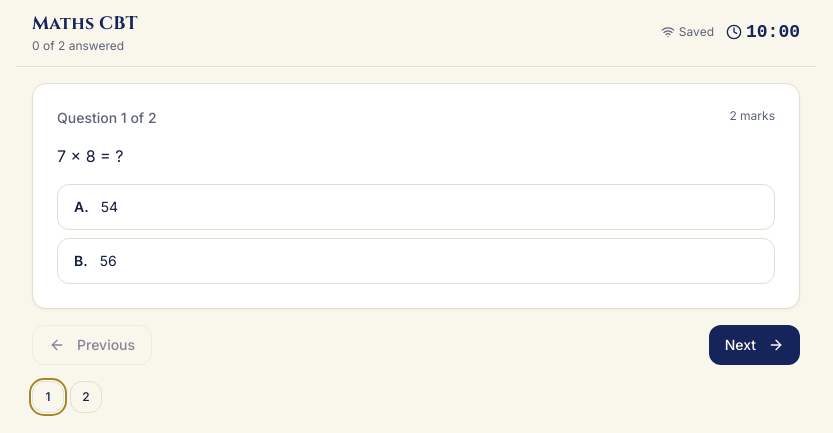
Test: SitTest › keeps answers given offline and sends them when the connection returns
The image size is (833, 433).
Expected: the text "7 x 8 = ?" is shown, [57,146,123,166]
What coordinates should you click on to do the following:
click the radio button labelled "B. 56"
I would click on:
 (79, 260)
Its box is [57,238,775,284].
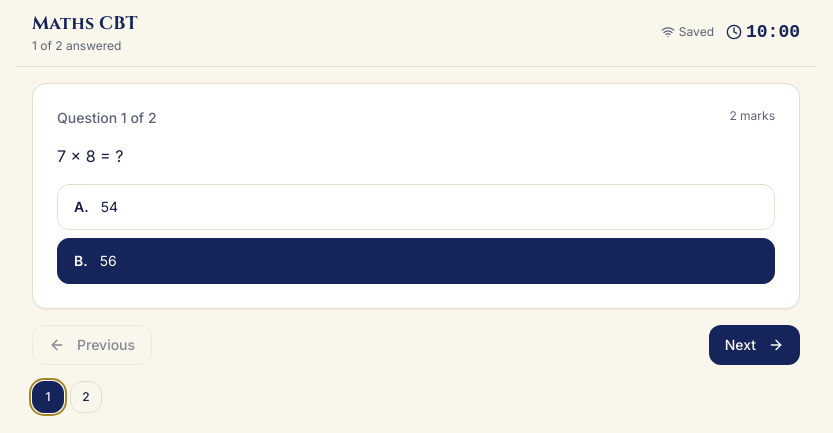
Expected: the text "Saved" is shown, [661,24,714,40]
Expected: the radio button labelled "B. 56" is checked, [57,238,775,284]
